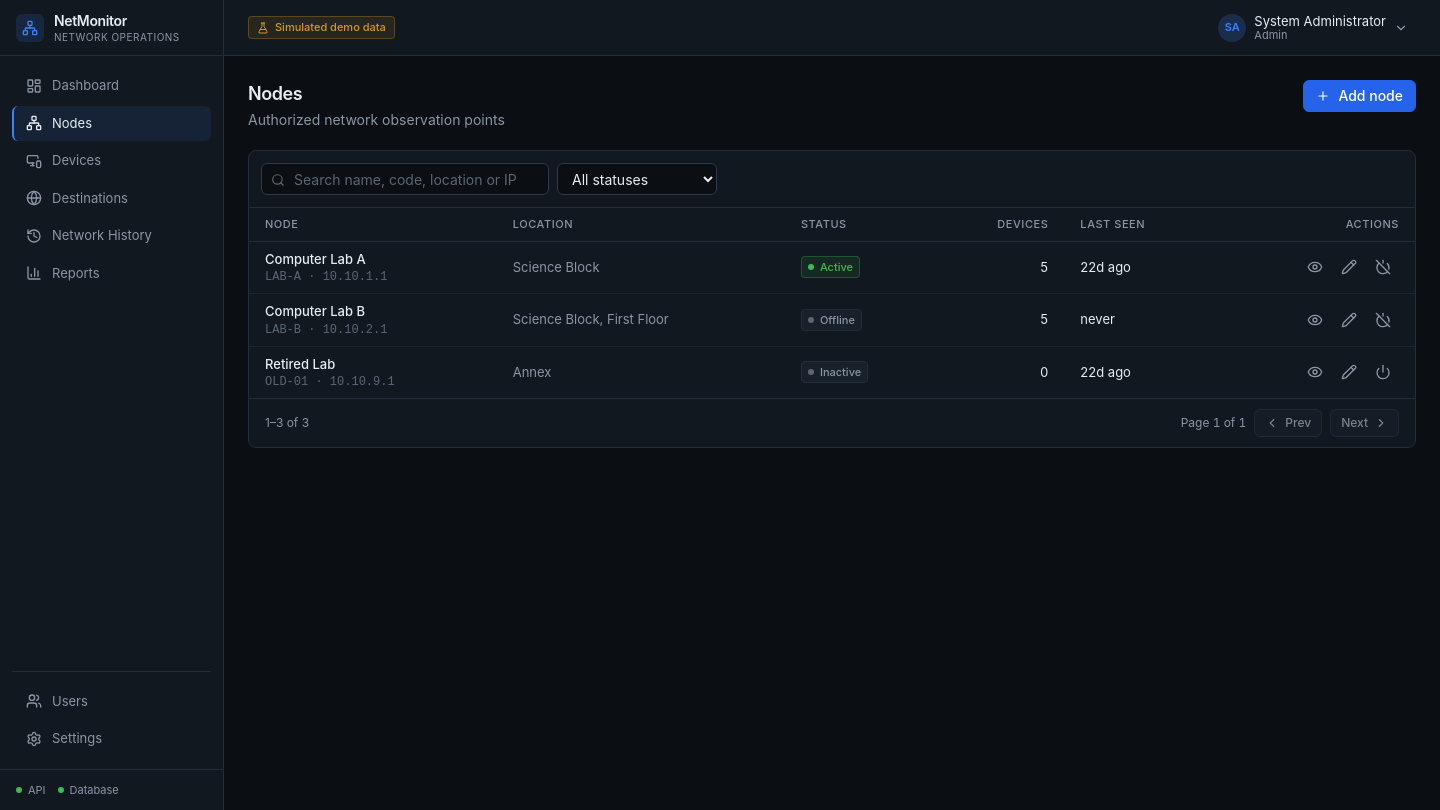
it: NodesPage: admin actions › shows why a status change failed and leaves the dialog open
The image size is (1440, 810).
Click the button named "Disable Computer Lab A" at (1383, 267), box [1367,251,1399,283]
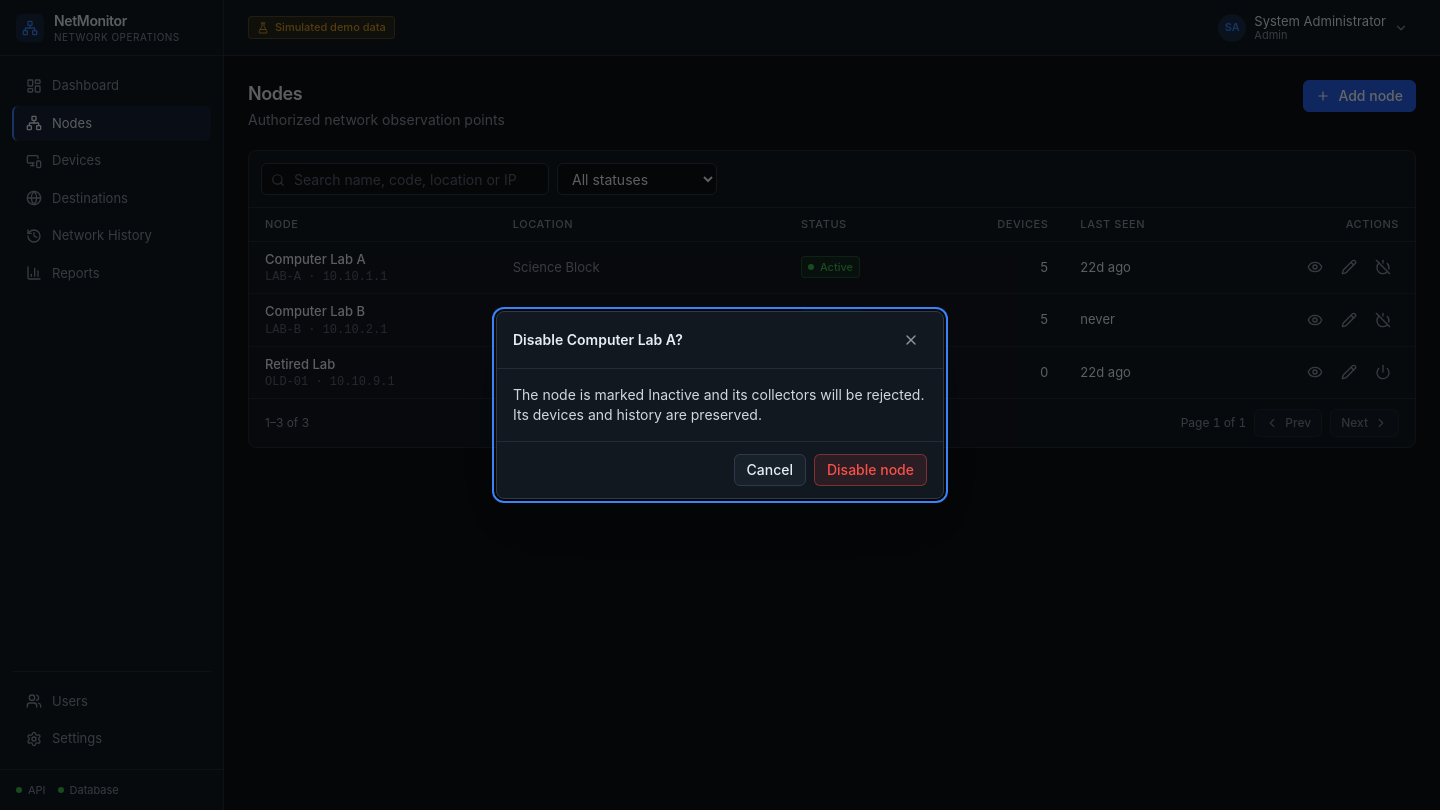
Click the button "Disable node" at (870, 470), box [814,454,927,486]
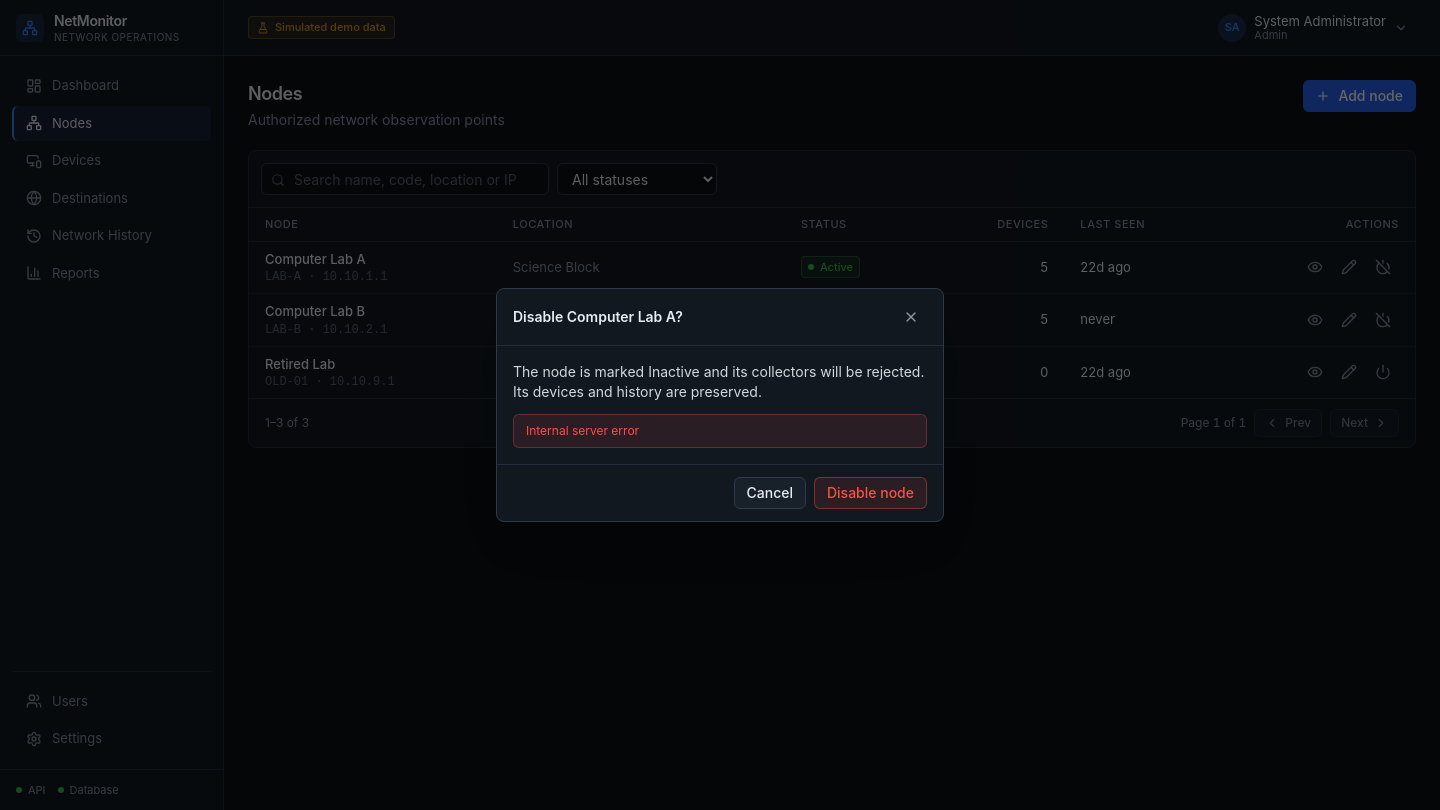
Expected: the dialog "Disable Computer Lab A?" is shown, [496,288,944,522]
Expected: the message reads "Internal server error", [526,423,639,438]
